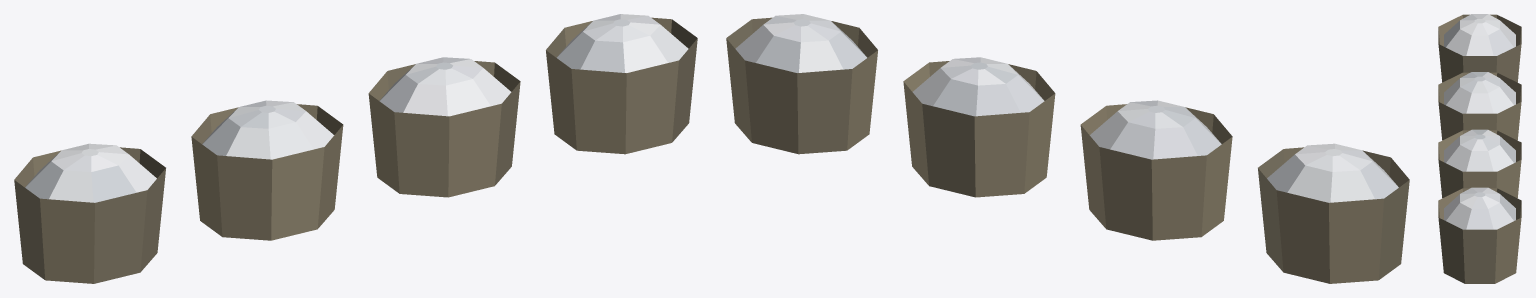
File: walk_prop_goods_saltpeter.glb
3 renders of one model, left to right at view 1: azimuth 30°, elevation 25°; view 2: azimuth 150°, elevation 25°; view 3: azimuth 270°, elevation 25°, orthographic. The views are drawn at different scales.
Visible parts, largest first — view 1: walk_prop_goods_saltpeter; view 2: walk_prop_goods_saltpeter; view 3: walk_prop_goods_saltpeter.
Part boxes in pixels (x1,y1,x2,y2): walk_prop_goods_saltpeter: (14,14,697,283); walk_prop_goods_saltpeter: (726,14,1409,283); walk_prop_goods_saltpeter: (1438,14,1521,283).
Bounding box in the file's own units: 2.6 × 0.4 × 0.425.
1 material, 1 textured.
